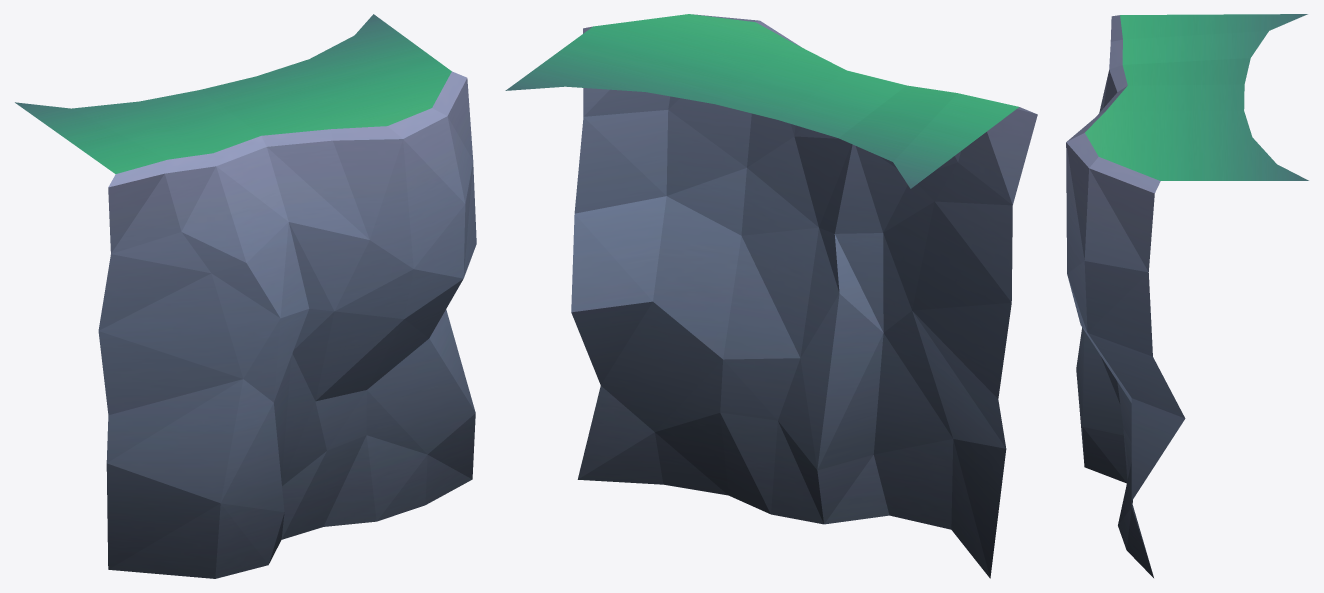
File: Cliff_Wall_2.fbx
The picture shows the model from 3 angles, left to right: view 1: azimuth 30°, elevation 25°; view 2: azimuth 150°, elevation 25°; view 3: azimuth 270°, elevation 25°; orthographic projection. The views are drawn at different scales.
Visible parts, largest first — view 1: Cliff Wall 2; view 2: Cliff Wall 2; view 3: Cliff Wall 2.
Part boxes in pixels (left/top/right/bottom): Cliff Wall 2: left=15, top=14, right=476, bottom=578; Cliff Wall 2: left=505, top=14, right=1037, bottom=578; Cliff Wall 2: left=1066, top=14, right=1308, bottom=577.
Bounding box in the file's own units: 975 × 979 × 554.
